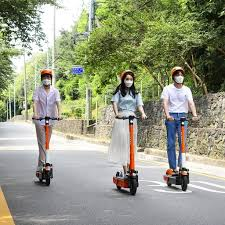kick_wheel: (128, 177, 138, 193), (181, 174, 189, 191), (45, 169, 51, 185)
